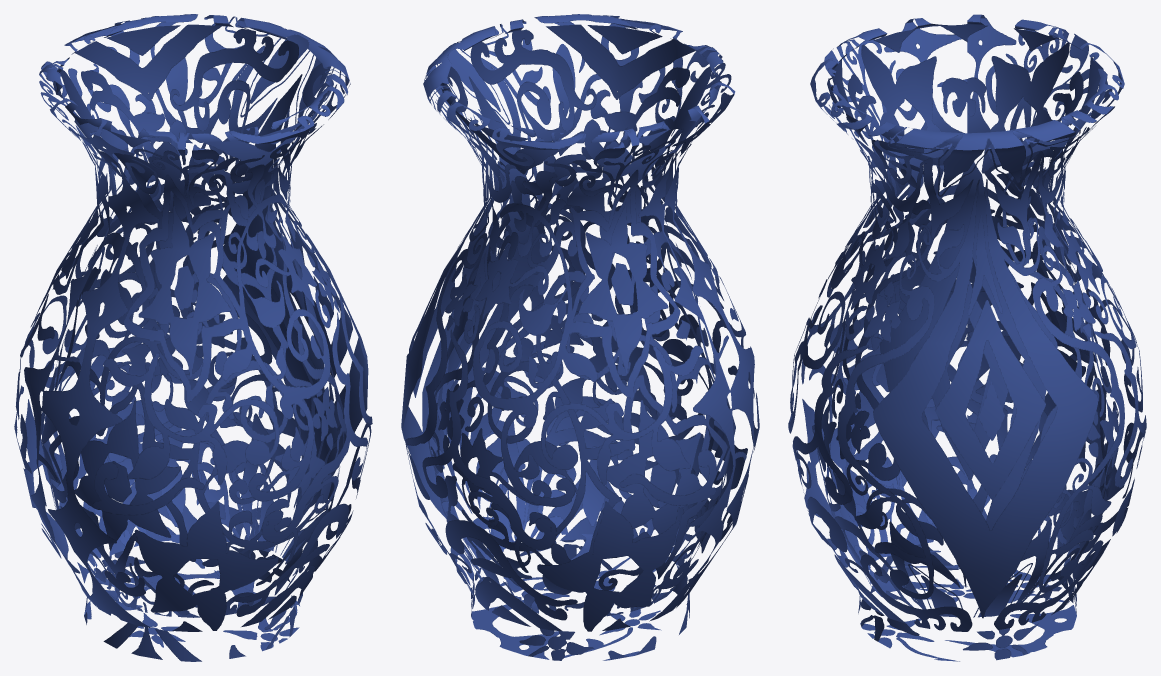
Rendered from LV_Jarron_Tx-1.fbx.
3 views of the same model, side by side, from view 1: azimuth 30°, elevation 25°; view 2: azimuth 150°, elevation 25°; view 3: azimuth 270°, elevation 25° (orthographic).
Parts seen in each view (by area): view 1: LV1-Jarron; view 2: LV1-Jarron; view 3: LV1-Jarron.
Part boxes in pixels (bbox=[...]): LV1-Jarron: bbox=[14, 14, 372, 661]; LV1-Jarron: bbox=[401, 14, 759, 660]; LV1-Jarron: bbox=[788, 14, 1146, 661].
Size of the model in its own units: 27 by 45 by 27.
